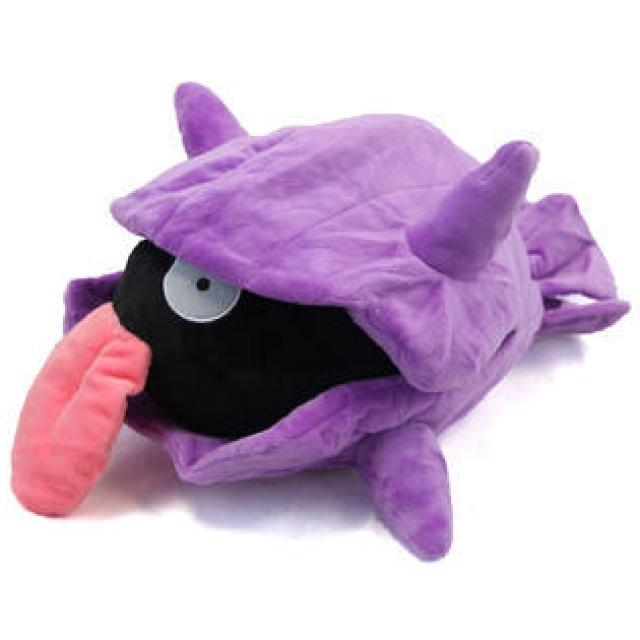Shellder: (32, 83, 561, 519)
